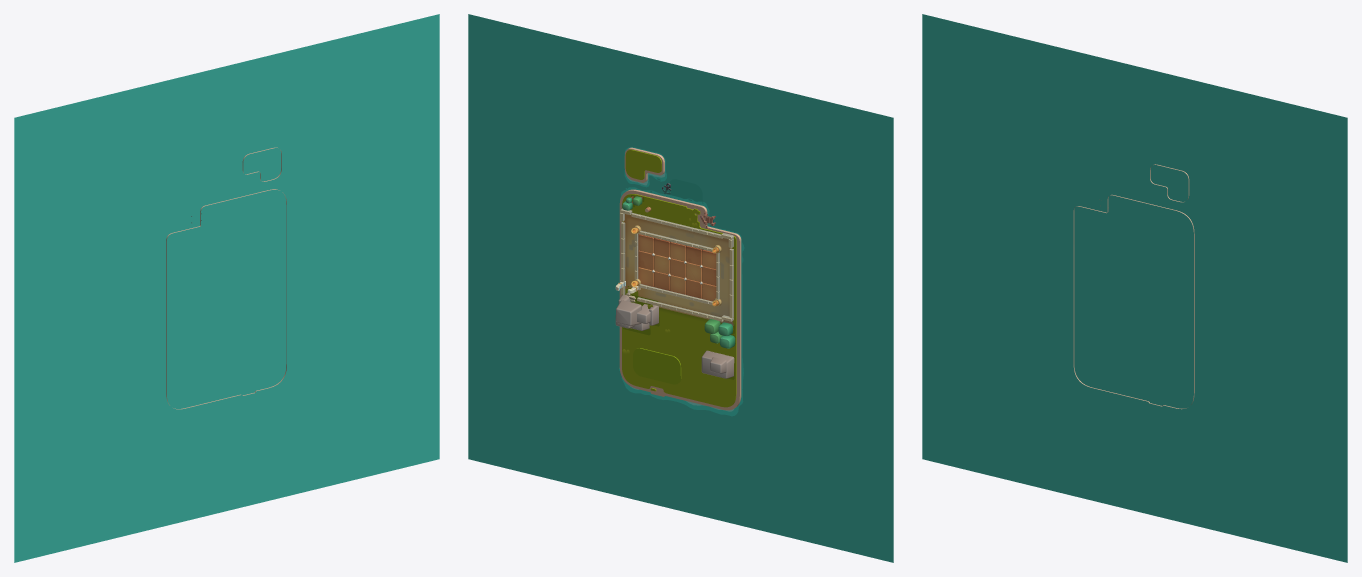
Rendered from scene1_ground.FBX.
3 views of the same model, side by side, from view 1: azimuth 30°, elevation 25°; view 2: azimuth 150°, elevation 25°; view 3: azimuth 330°, elevation 25° (orthographic).
Parts seen in each view (by area): view 1: scene1_ground; view 2: scene1_ground; view 3: scene1_ground.
Part boxes in pixels (<box>): scene1_ground: <box>14,14,439,562</box>; scene1_ground: <box>468,14,893,562</box>; scene1_ground: <box>922,14,1347,562</box>.
Size of the model in its own units: 4000 by 4000 by 279.
1 material, 1 textured.
